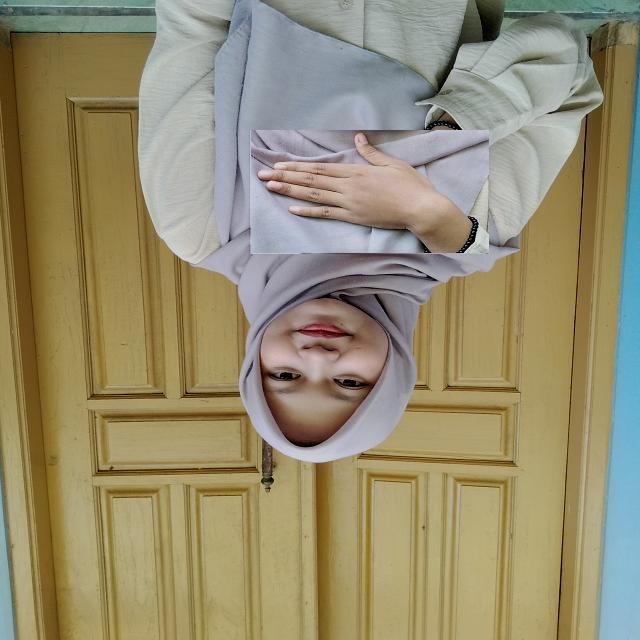tolong: (248, 130, 488, 254)
